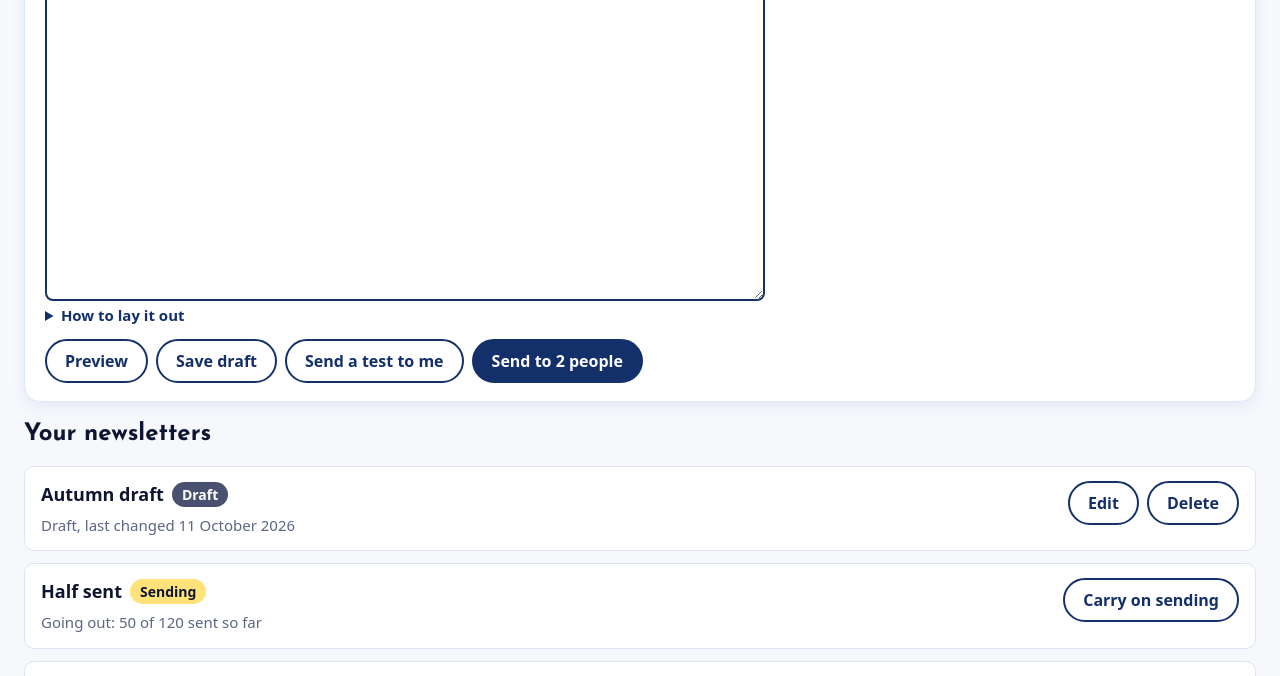
Test case: writing, previewing and saving › shows the problem instead of a preview when the draft is not right
(page scrolled)
Click the button "Preview" at (96, 361), box top-left (45, 339), bottom-right (148, 383)
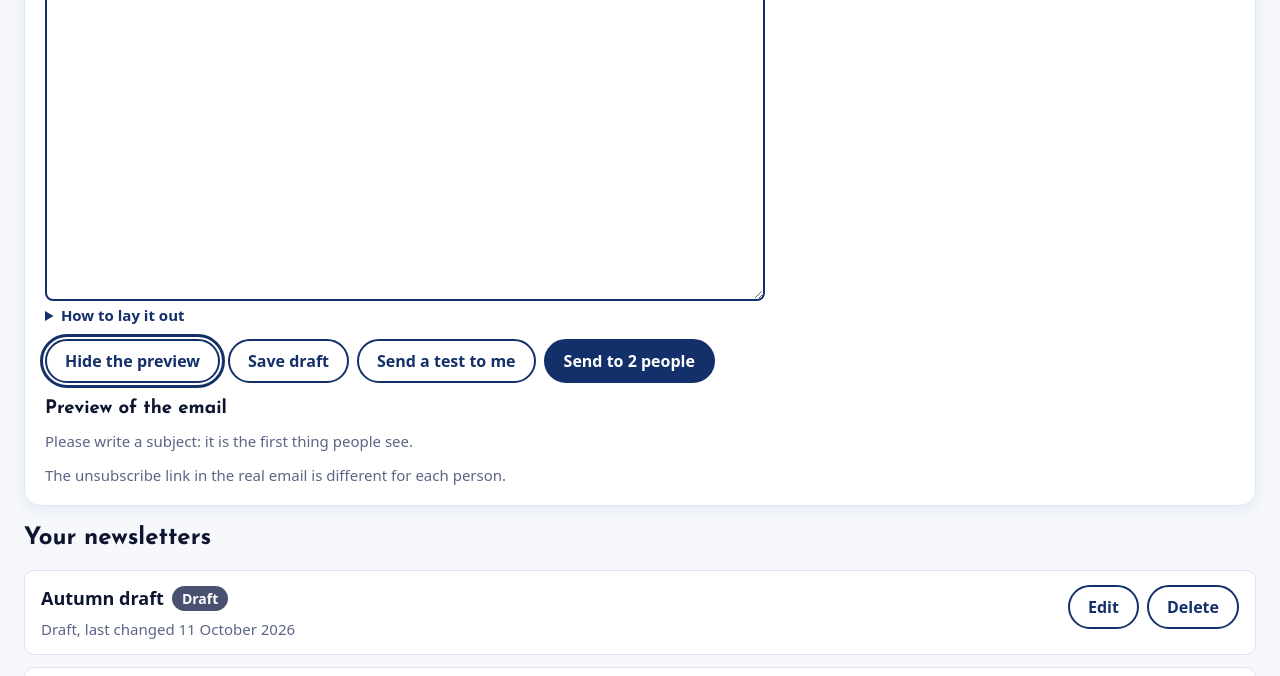
expect the text "Please write a subject: it is the first thing people see." is shown: met, box top-left (45, 431), bottom-right (413, 451)
